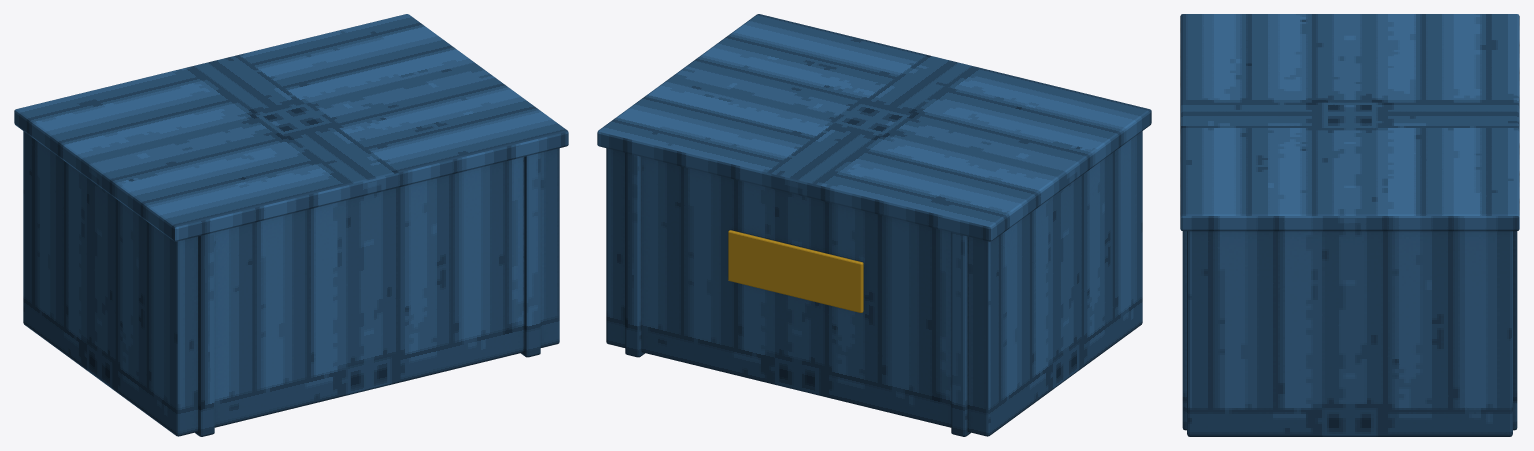
File: base_crate_large_sealed.glb
3 views of the same model, side by side, from view 1: azimuth 30°, elevation 25°; view 2: azimuth 150°, elevation 25°; view 3: azimuth 270°, elevation 25° (orthographic). The views are drawn at different scales.
Visible parts, largest first — view 1: base_crate_large_sealed; view 2: base_crate_large_sealed; view 3: base_crate_large_sealed.
Part boxes in pixels (x1,y1,x2,y2): base_crate_large_sealed: [14, 14, 568, 436]; base_crate_large_sealed: [597, 14, 1151, 436]; base_crate_large_sealed: [1180, 14, 1519, 436].
Size of the model in its own units: 2.06 by 1.09 by 1.46.
Materials: 3 (3 with a texture image).
